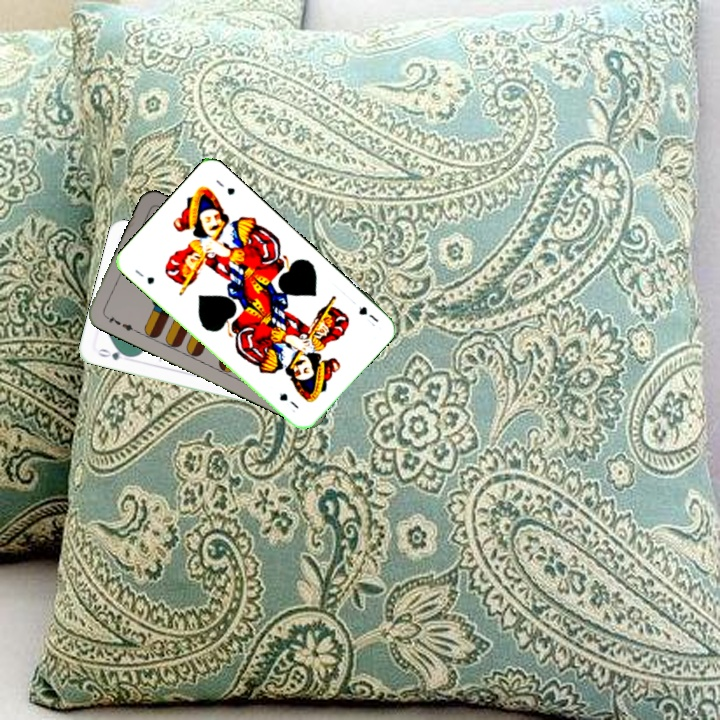E7: (101, 311, 139, 335)
GO: (94, 344, 133, 363)
GU: (355, 302, 381, 329), (131, 266, 157, 287)
